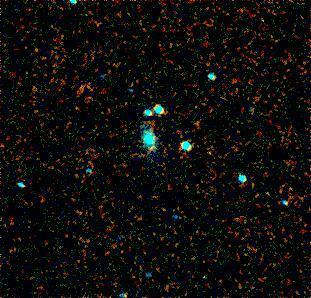star: (137, 135, 167, 165)
